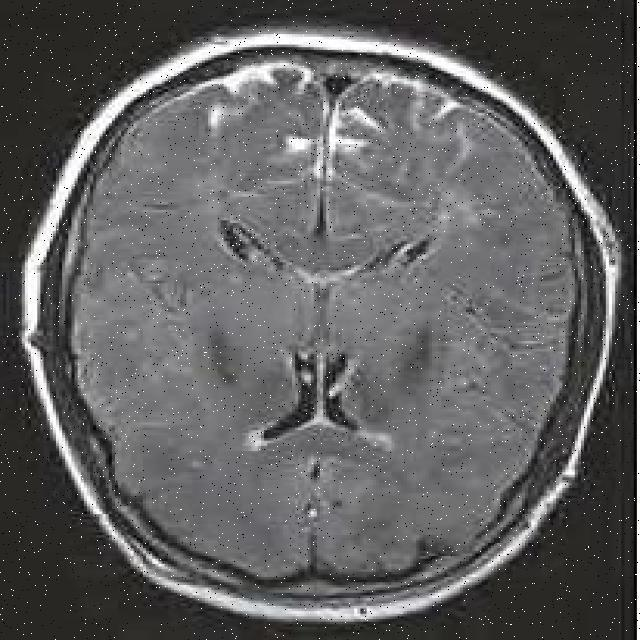No_Tumor: (21, 28, 620, 621)
